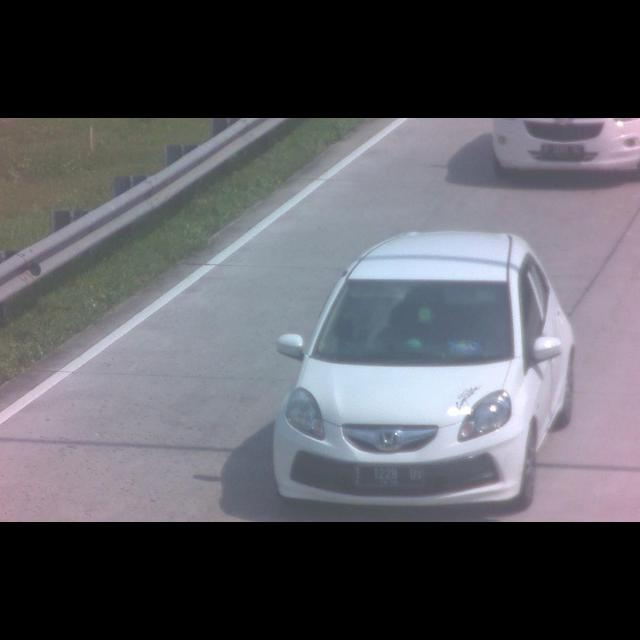plate: (351, 464, 433, 490)
